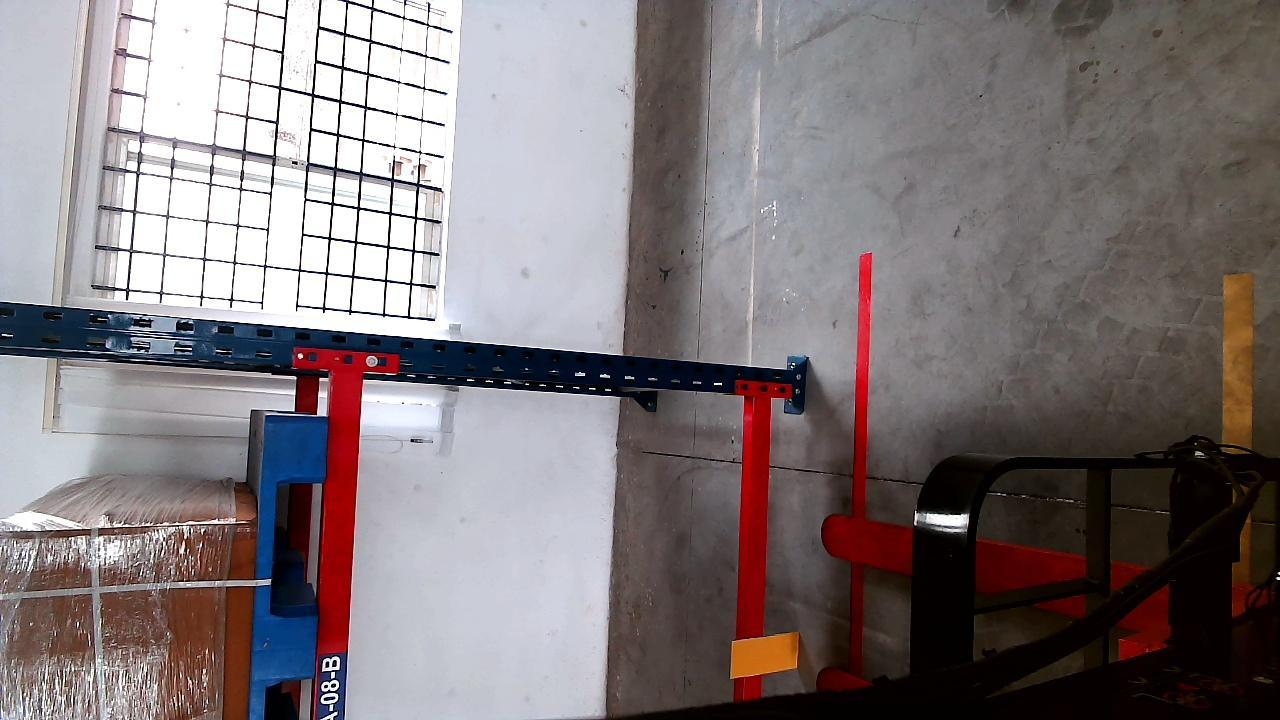red_line: (845, 254, 873, 673)
yellow_line: (1219, 272, 1253, 453)
